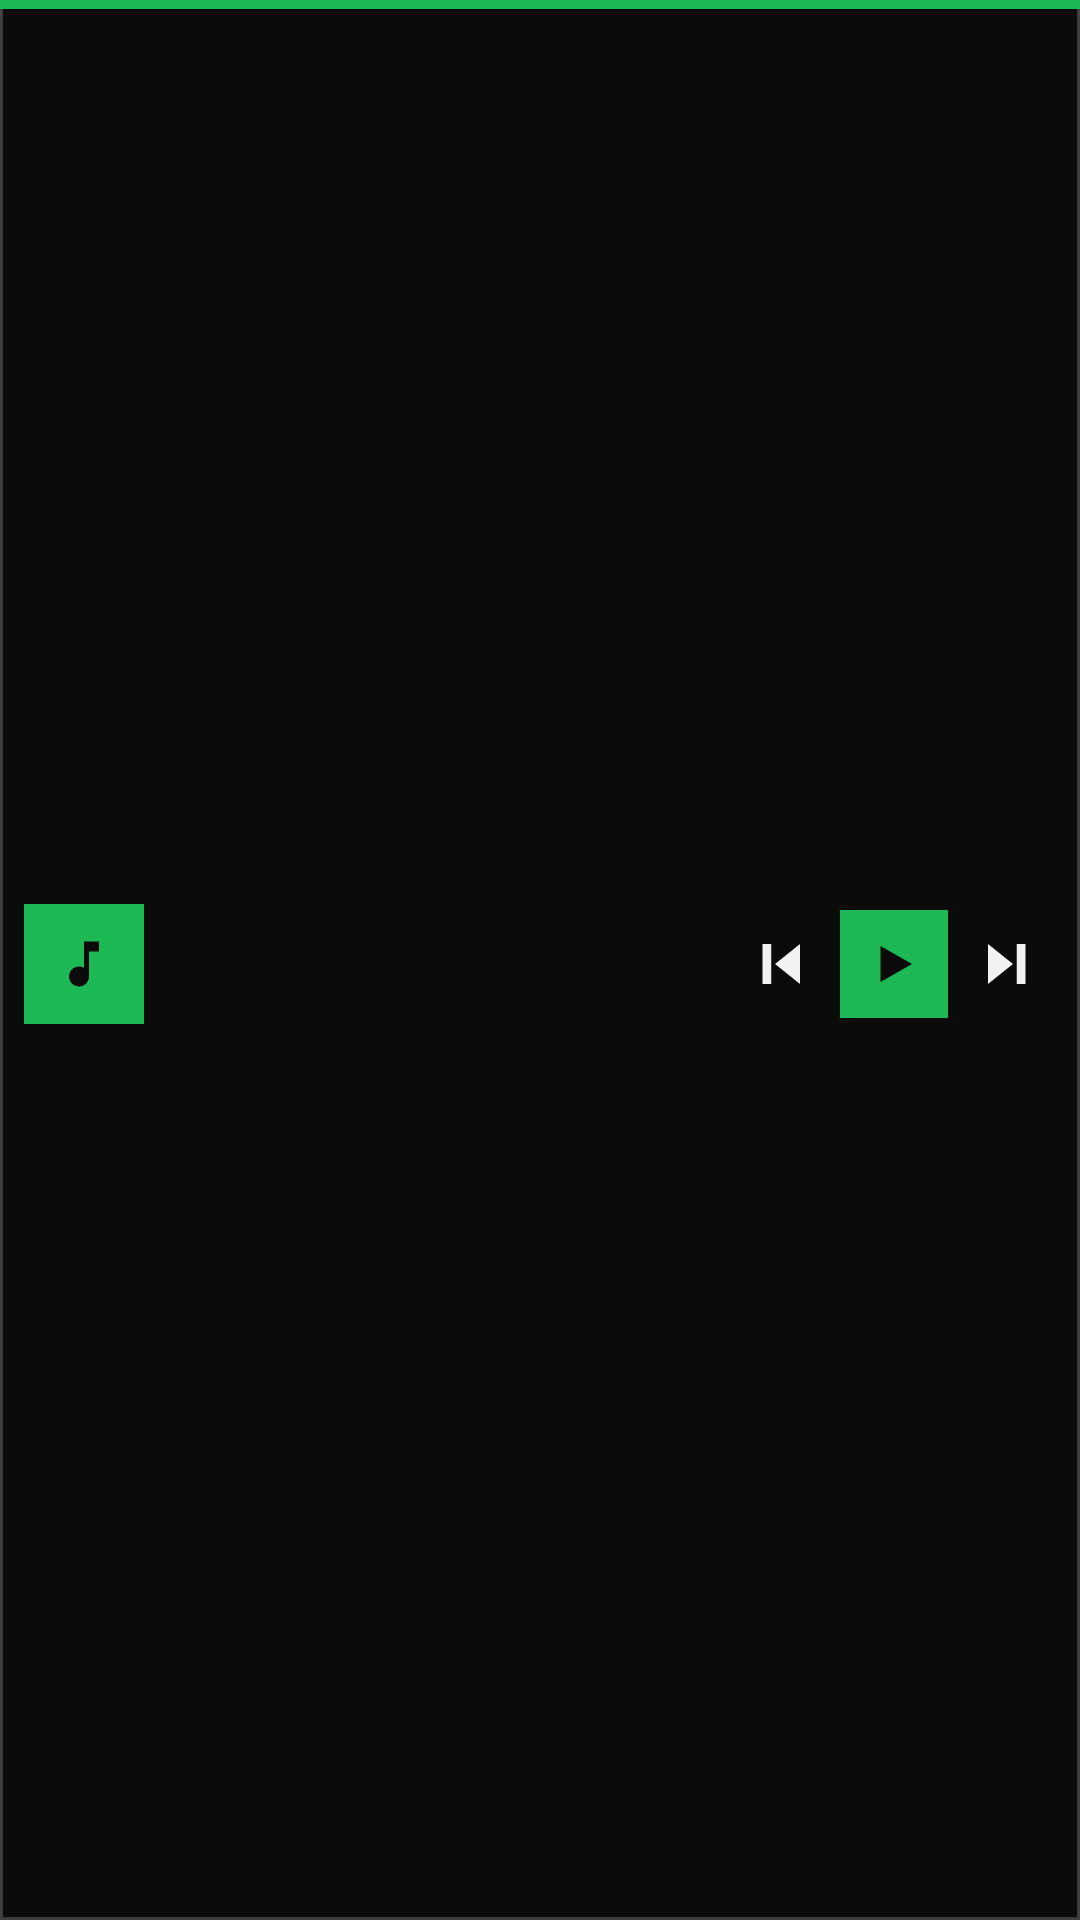

Where icons sit on this 1080w x 1920h app screen, as (x1, y1, x2, y2):
widget next: (988, 944, 1026, 984)
widget note: (69, 941, 99, 987)
widget play: (840, 910, 948, 1018)
widget prev: (762, 944, 800, 984)
